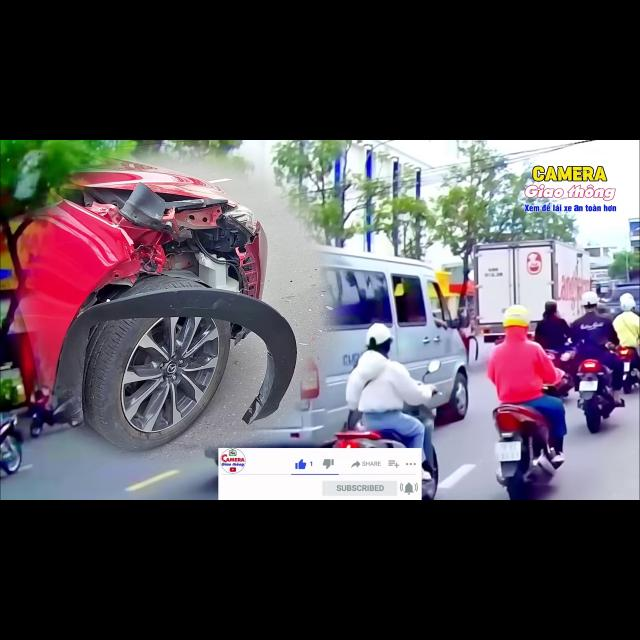car: (3, 159, 296, 449), (255, 247, 468, 446), (599, 282, 639, 316)
motorcycle: (493, 404, 562, 499), (577, 359, 615, 433), (332, 412, 407, 447), (29, 394, 78, 438), (545, 350, 574, 397), (0, 415, 23, 474), (617, 347, 639, 393)
truck: (472, 240, 590, 342)
